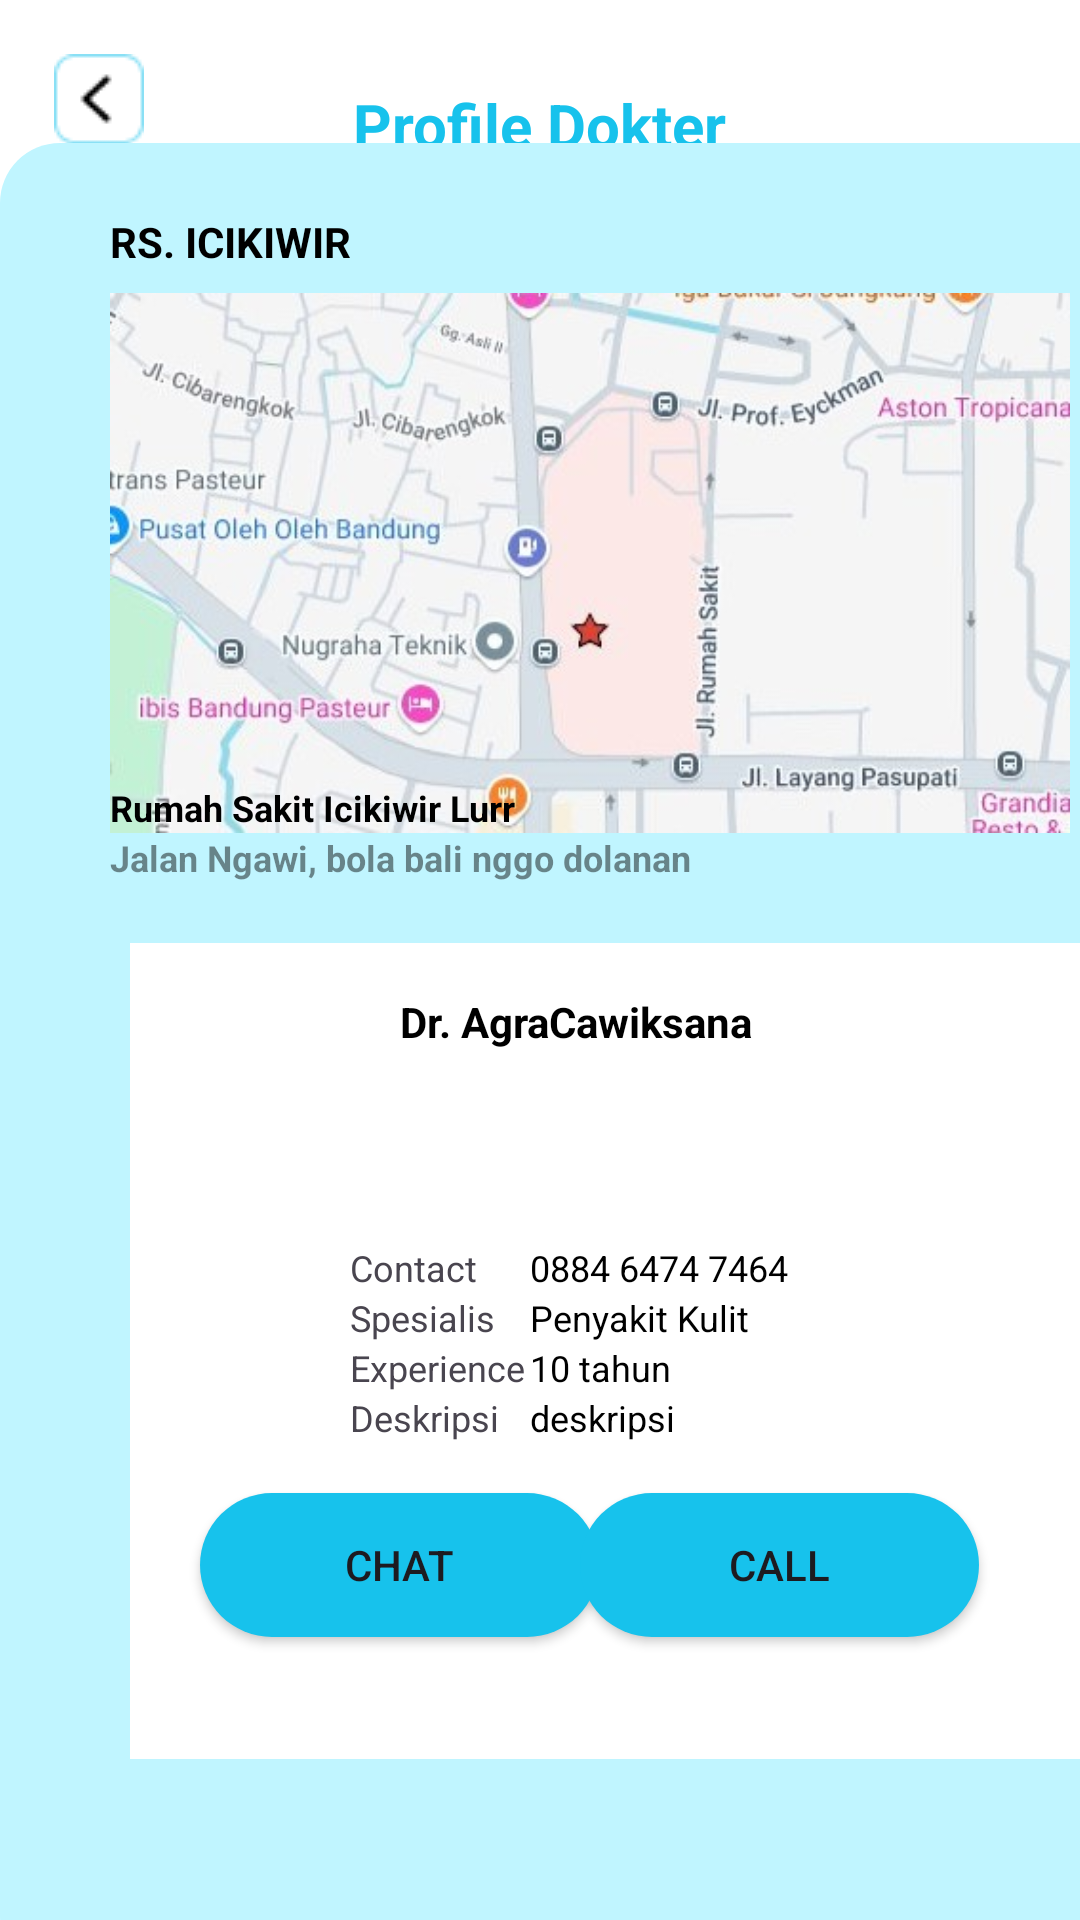

Icon click points for this 1080 x 1920 phone screenshot, format [x,y]:
back: [99,102]
